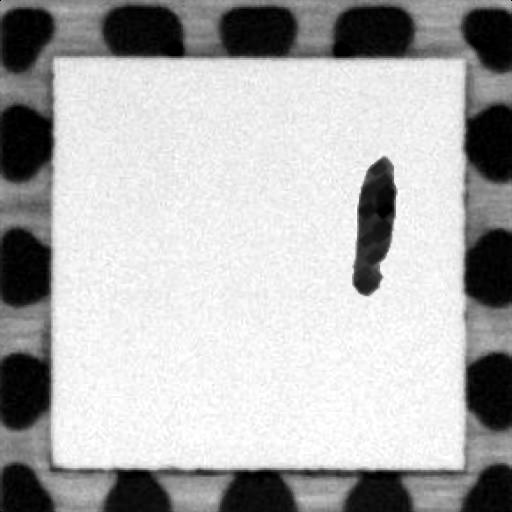DIE_INK: (346, 153, 396, 301)
